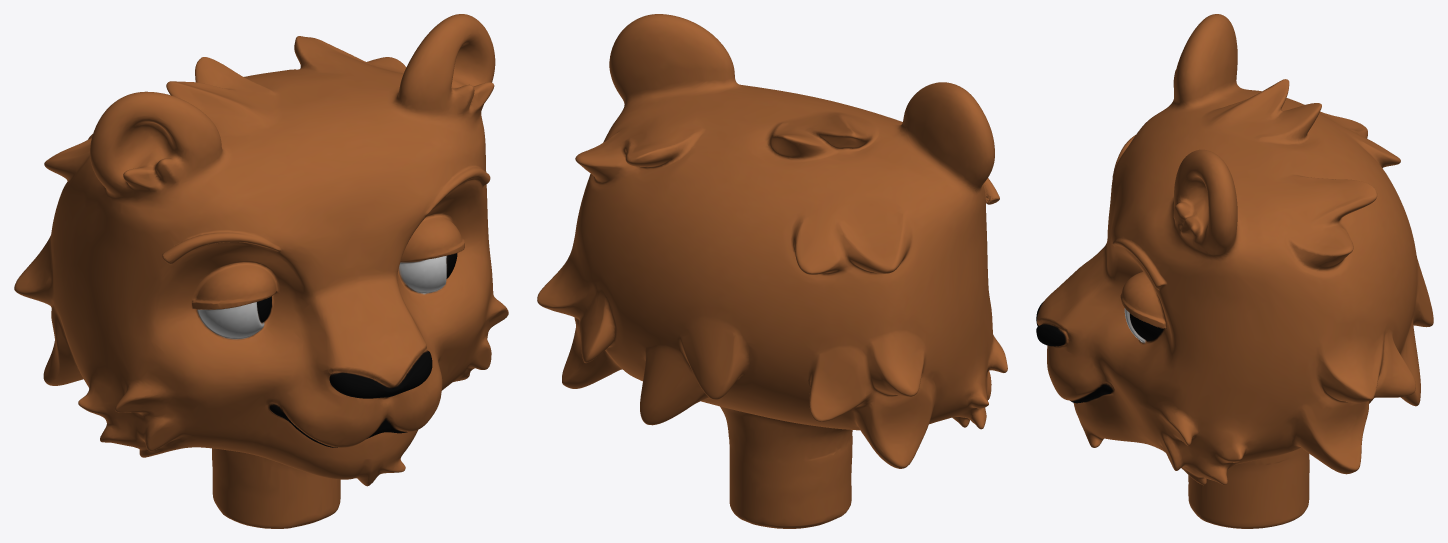
Rendered from Tete_Lion.glb.
The picture shows the model from 3 angles, left to right: view 1: azimuth 30°, elevation 25°; view 2: azimuth 150°, elevation 25°; view 3: azimuth 270°, elevation 25°; orthographic projection. The views are drawn at different scales.
Parts seen in each view (by area): view 1: Tete_Lion; view 2: Tete_Lion; view 3: Tete_Lion.
Part boxes in pixels (box(x1,y1,x2,y2)): Tete_Lion: box(14, 14, 508, 528); Tete_Lion: box(537, 14, 1007, 528); Tete_Lion: box(1036, 14, 1433, 528).
Size of the model in its own units: 4.24 by 4.58 by 3.91.
